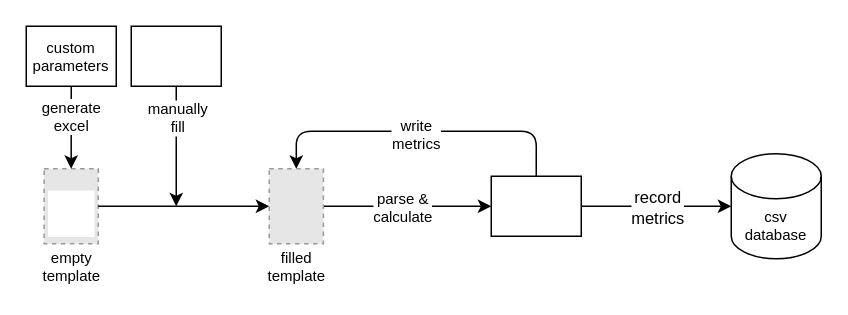
Some shapes in this 848 by 315 pixel diagram are drawn without their labels. Grey dashed boxes stand in for pictures. Each missing label, with the centre of its shape:
metrics: point 535,205
seed grower data: point 175,55
